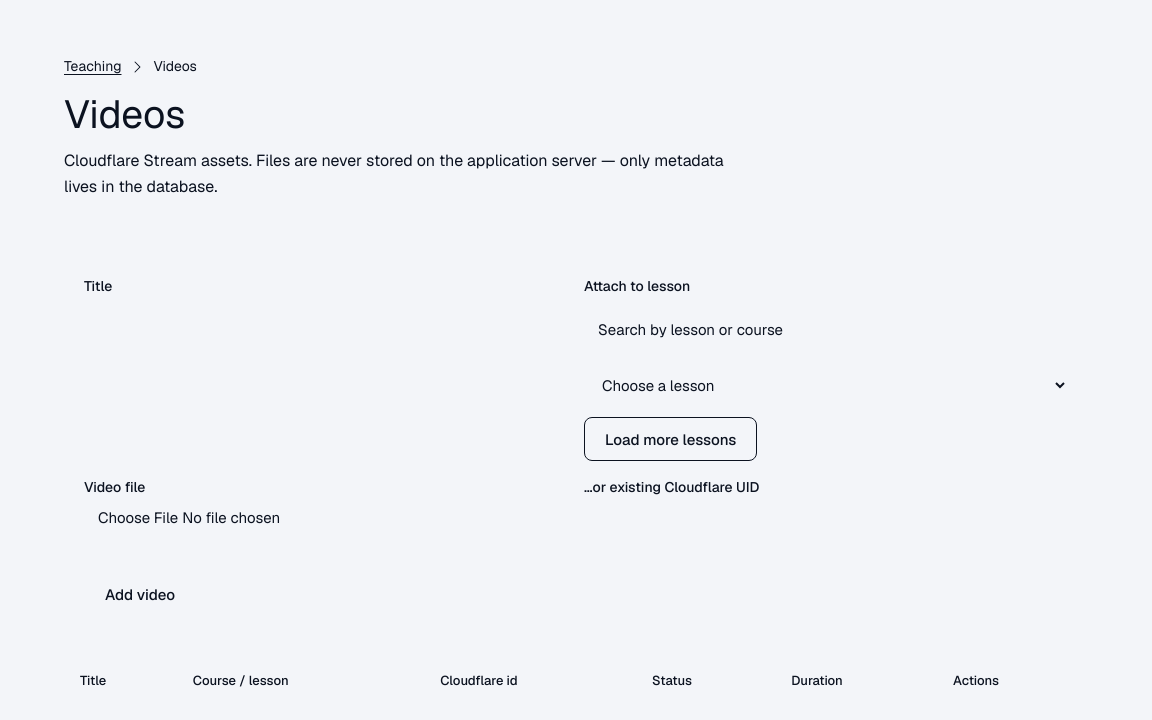
Test: video lesson picker › loads lessons beyond the first page and keeps the selection
Select "Evidence — Lesson 7" in the dropdown labelled "Attach to lesson". click: (826,385)
box: [584,361,1068,409]
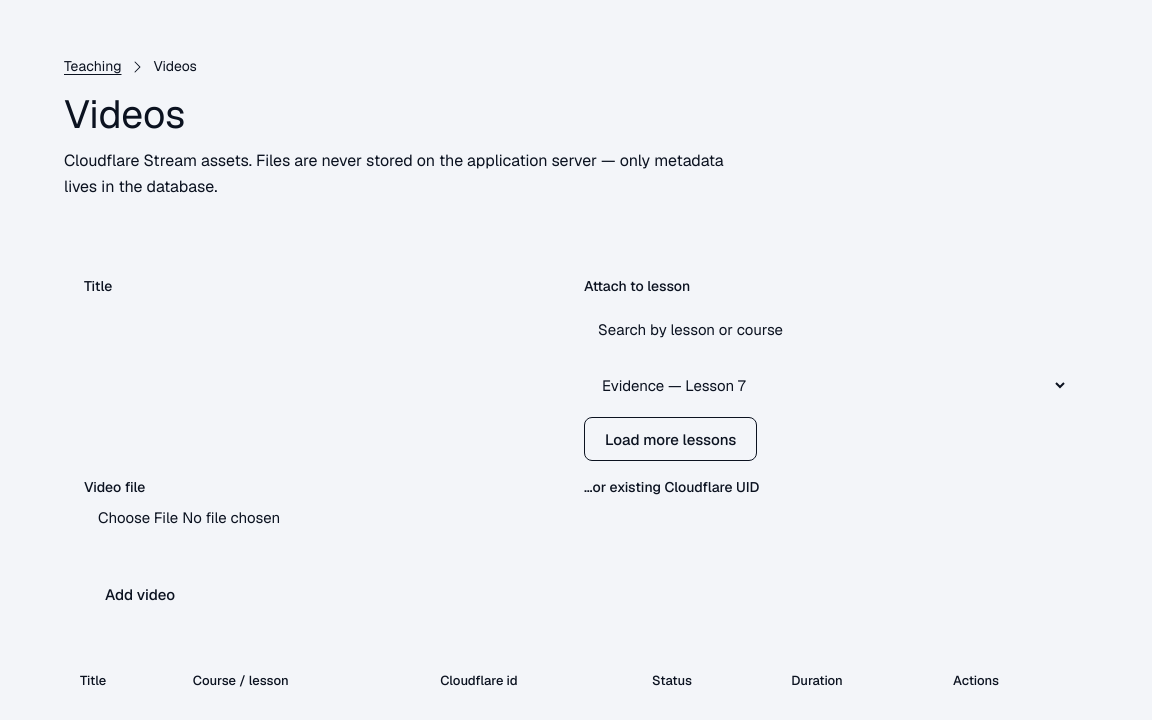
Click the button "Load more lessons". click: (671,439)
box: [584,417,757,461]
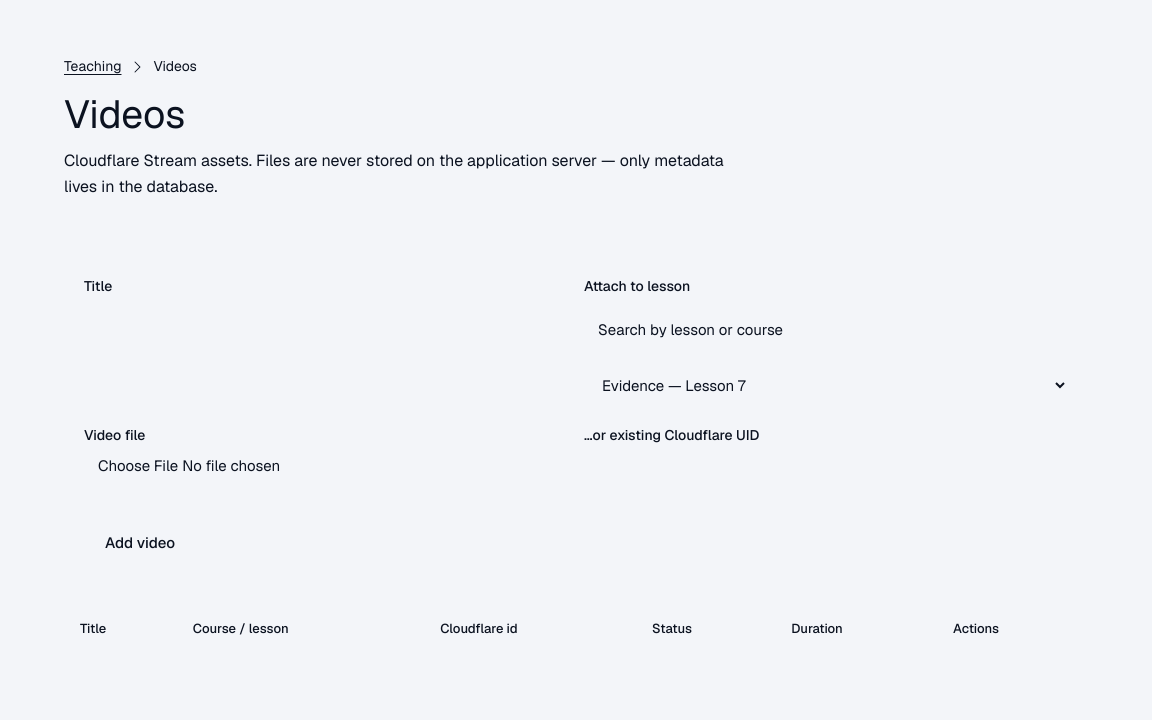
Result: the button "Load more lessons" is gone
